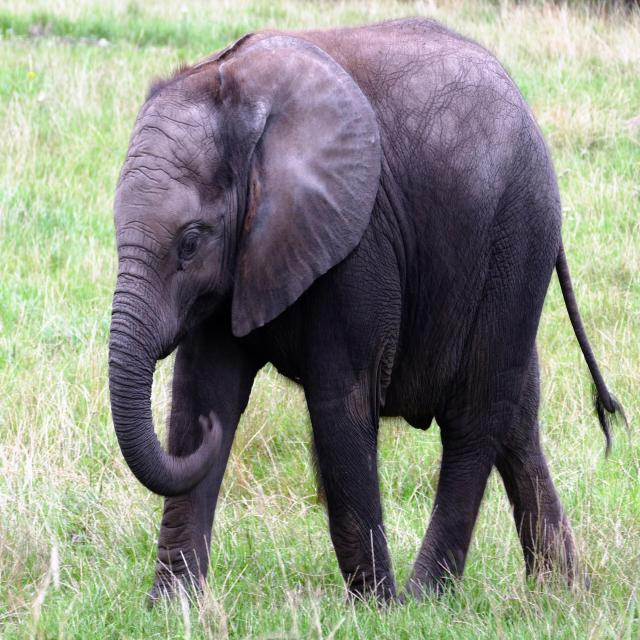Elephant: (103, 4, 640, 628)
